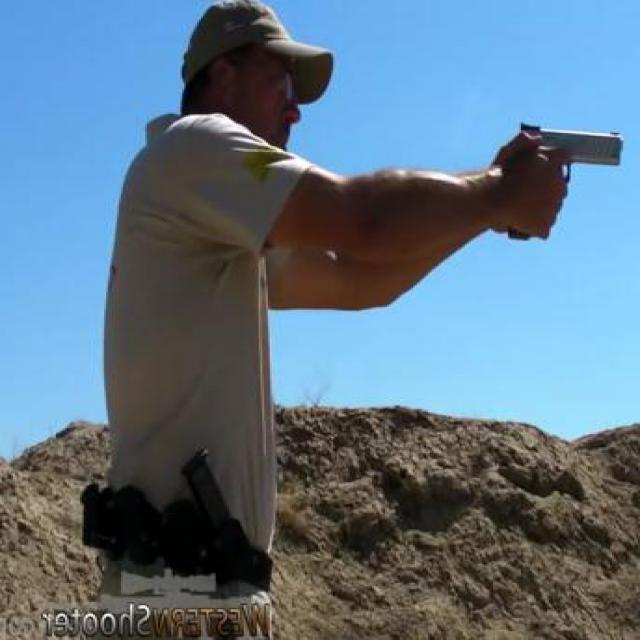Gun: (502, 120, 627, 241)
